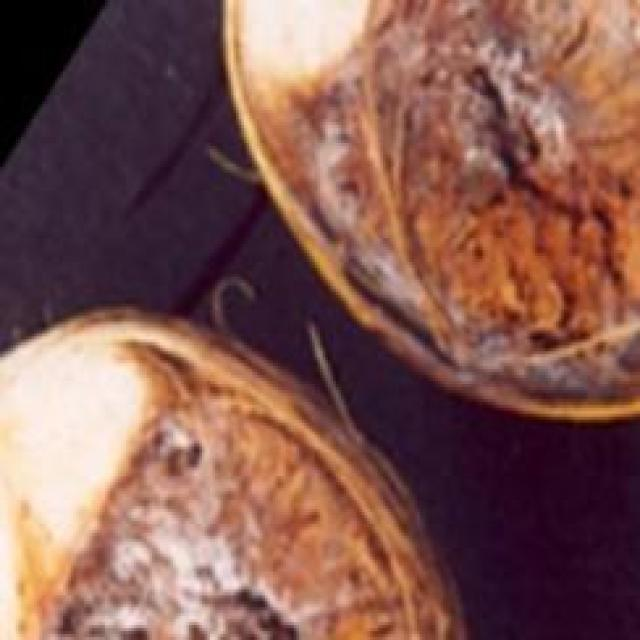damaged: (223, 0, 637, 426), (0, 304, 470, 637)
